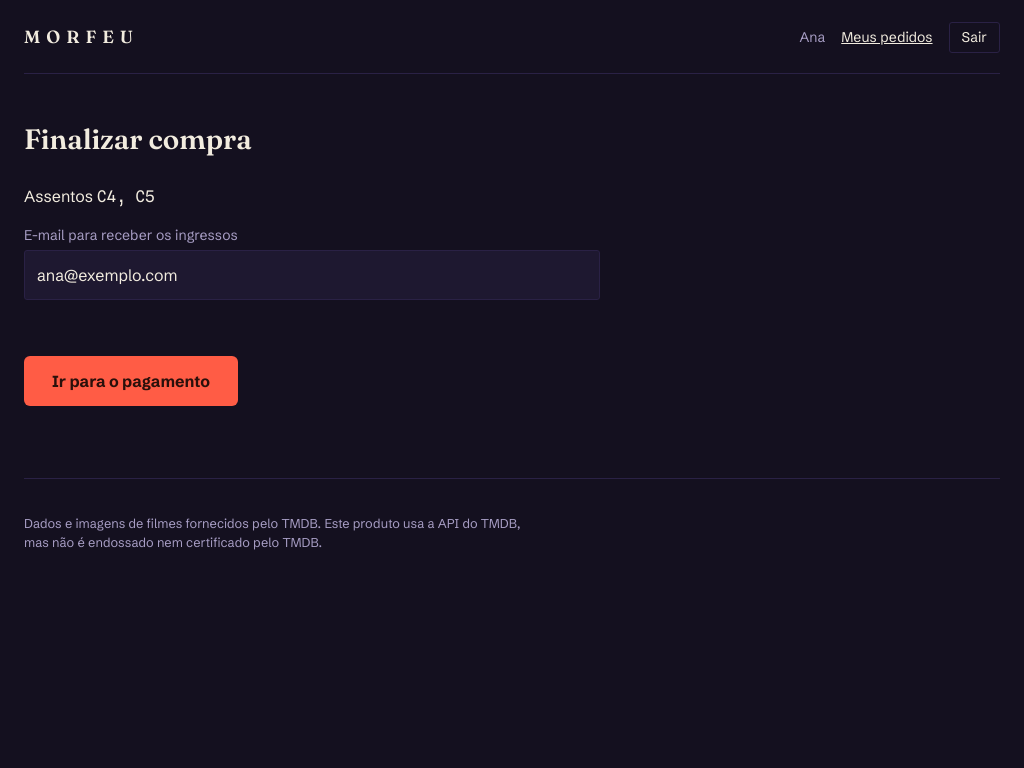
Test: checkout › logado: e-mail da conta pré-preenchido e o pedido leva o Bearer
This screenshot has width=1024, height=768.
expect the field labelled "E-mail para receber os ingressos" holds "ana@exemplo.com": met, box [24,250,600,300]
Click the button "Ir para o pagamento": (131, 381) [24,356,238,406]
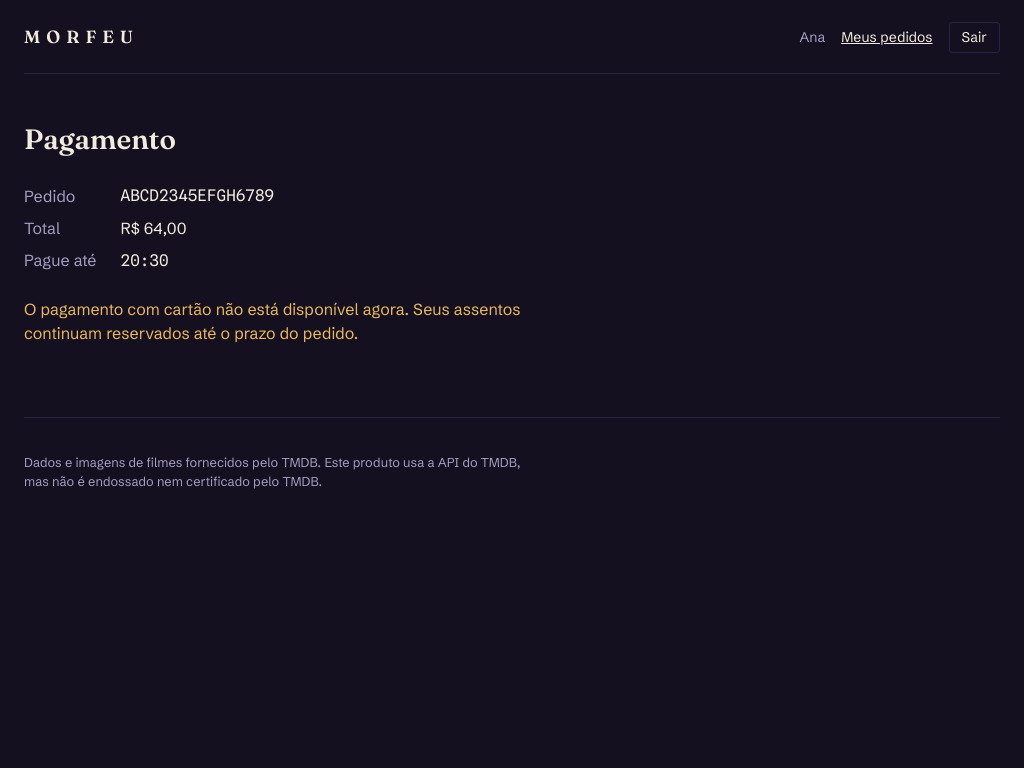
expect the heading "Pagamento" is shown: met, box [24,122,176,156]
